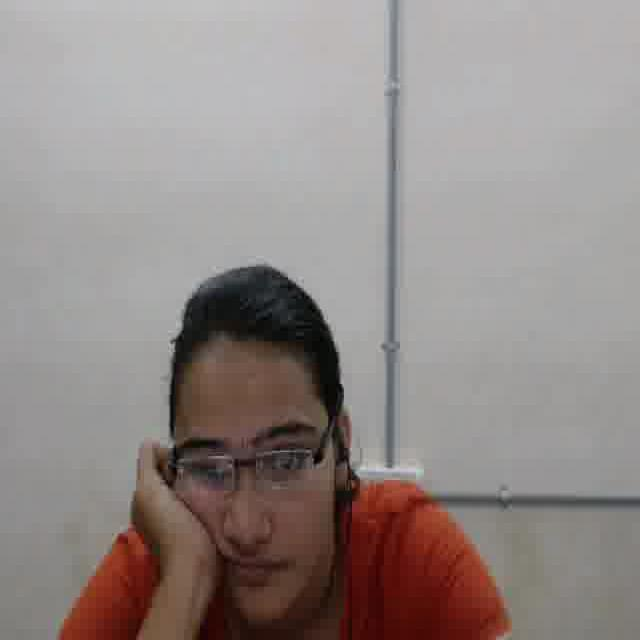Boredom: (170, 349, 334, 624)
